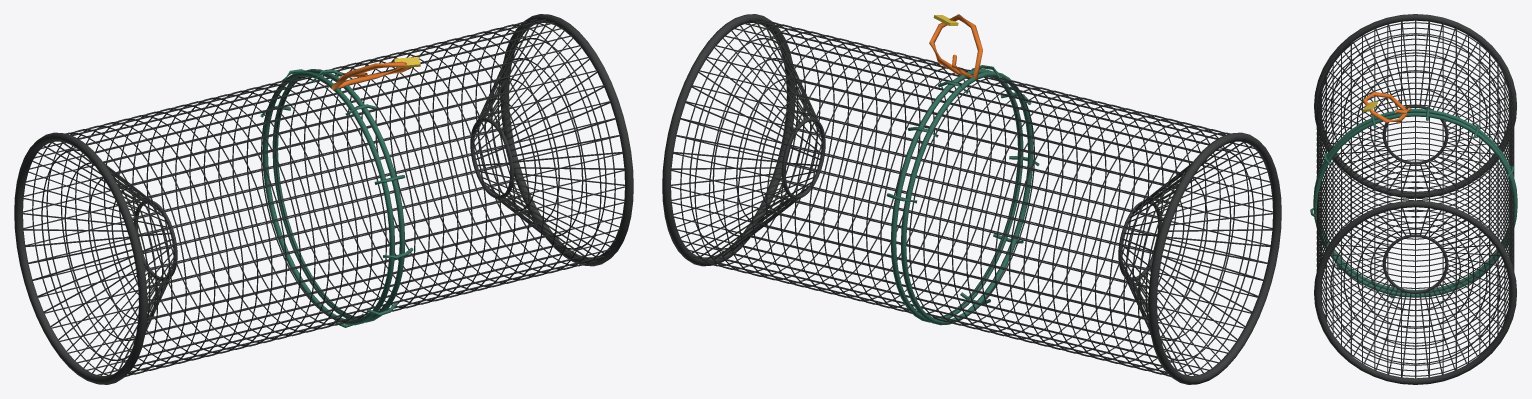
Rendered from trampa.glb.
The picture shows the model from 3 angles, left to right: view 1: azimuth 30°, elevation 25°; view 2: azimuth 150°, elevation 25°; view 3: azimuth 270°, elevation 25°; orthographic projection. The views are drawn at different scales.
Visible parts, largest first — view 1: Rejilla cilíndrica y embudos, Aros de refuerzo, Fijación central, Cuerda de recuperación; view 2: Rejilla cilíndrica y embudos, Aros de refuerzo, Fijación central, Cuerda de recuperación; view 3: Rejilla cilíndrica y embudos, Aros de refuerzo, Fijación central, Cuerda de recuperación.
Part boxes in pixels (x1,y1,x2,y2): Rejilla cilíndrica y embudos: (22, 19, 625, 376); Aros de refuerzo: (14, 14, 633, 384); Fijación central: (260, 69, 413, 327); Cuerda de recuperación: (331, 61, 411, 90); Rejilla cilíndrica y embudos: (670, 19, 1273, 376); Aros de refuerzo: (662, 14, 1281, 384); Fijación central: (886, 65, 1039, 325); Cuerda de recuperación: (929, 14, 982, 79); Rejilla cilíndrica y embudos: (1316, 18, 1514, 378); Aros de refuerzo: (1314, 14, 1516, 384); Fijación central: (1310, 106, 1517, 298); Cuerda de recuperación: (1362, 91, 1410, 122).
Bounding box in the file's own units: 1.13 × 0.5873 × 0.5228.
